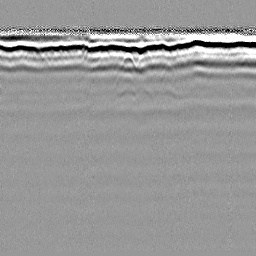cavity: (119, 52, 138, 70)
